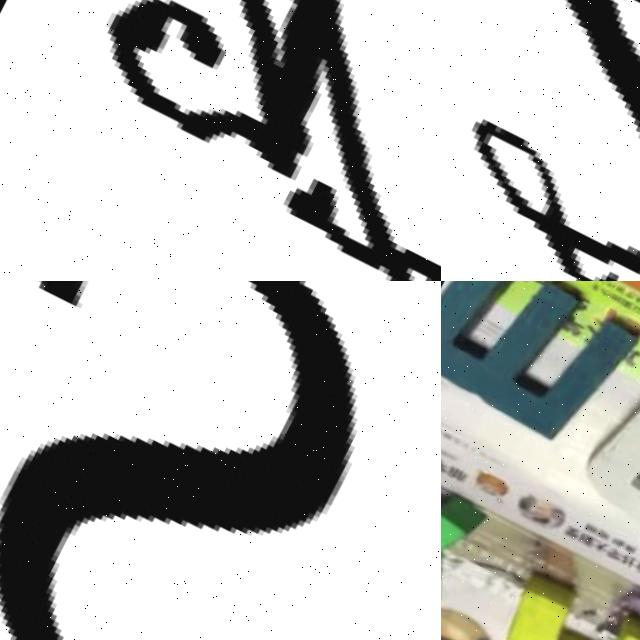M: (441, 281, 635, 451)
N: (68, 0, 441, 281)
Q: (574, 370, 640, 583)
R: (464, 564, 640, 640)
S: (0, 281, 441, 640)
Y: (441, 452, 490, 634)
Z: (441, 0, 640, 281)
